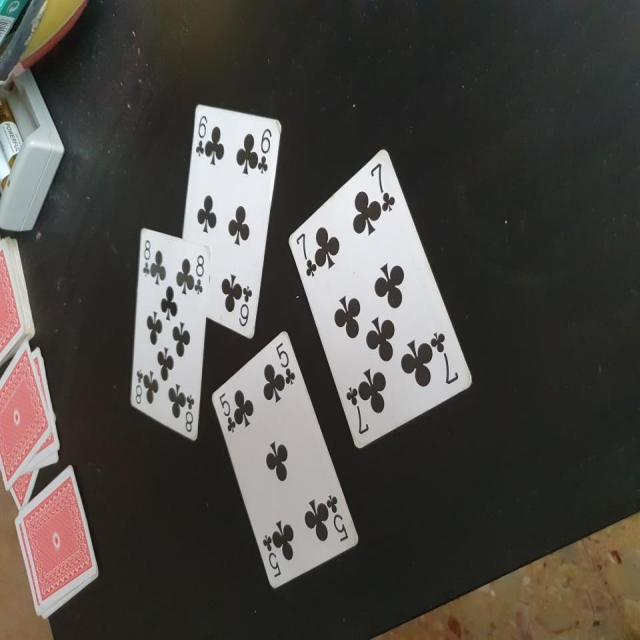5 Trefoils: (210, 329, 359, 588)
6 Trefoils: (182, 100, 281, 342)
7 Trefoils: (286, 146, 474, 447)
8 Trefoils: (129, 228, 211, 444)
